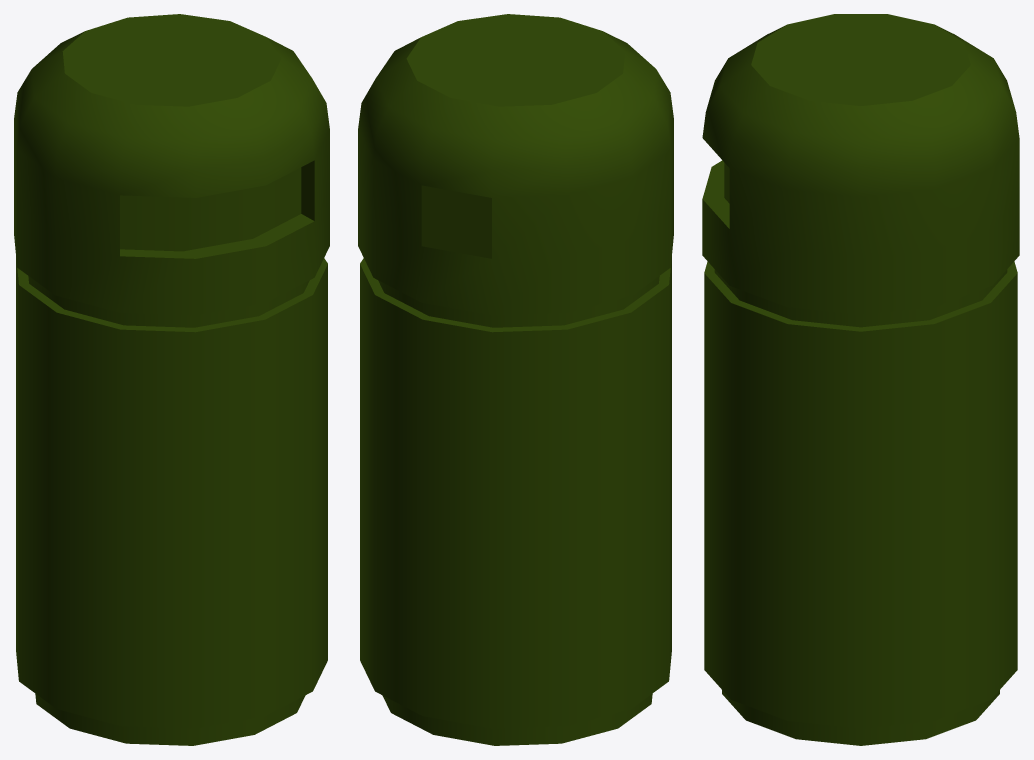
The model's file is Trash.fbx.
3 views of the same model, side by side, from view 1: azimuth 30°, elevation 25°; view 2: azimuth 150°, elevation 25°; view 3: azimuth 270°, elevation 25° (orthographic).
Parts seen in each view (by area): view 1: pCylinder1; view 2: pCylinder1; view 3: pCylinder1.
Part boxes in pixels (x1,y1,x2,y2): pCylinder1: (14,14,329,745); pCylinder1: (358,14,673,745); pCylinder1: (702,14,1019,745).
Size of the model in its own units: 1.99 by 4.38 by 2.01.
